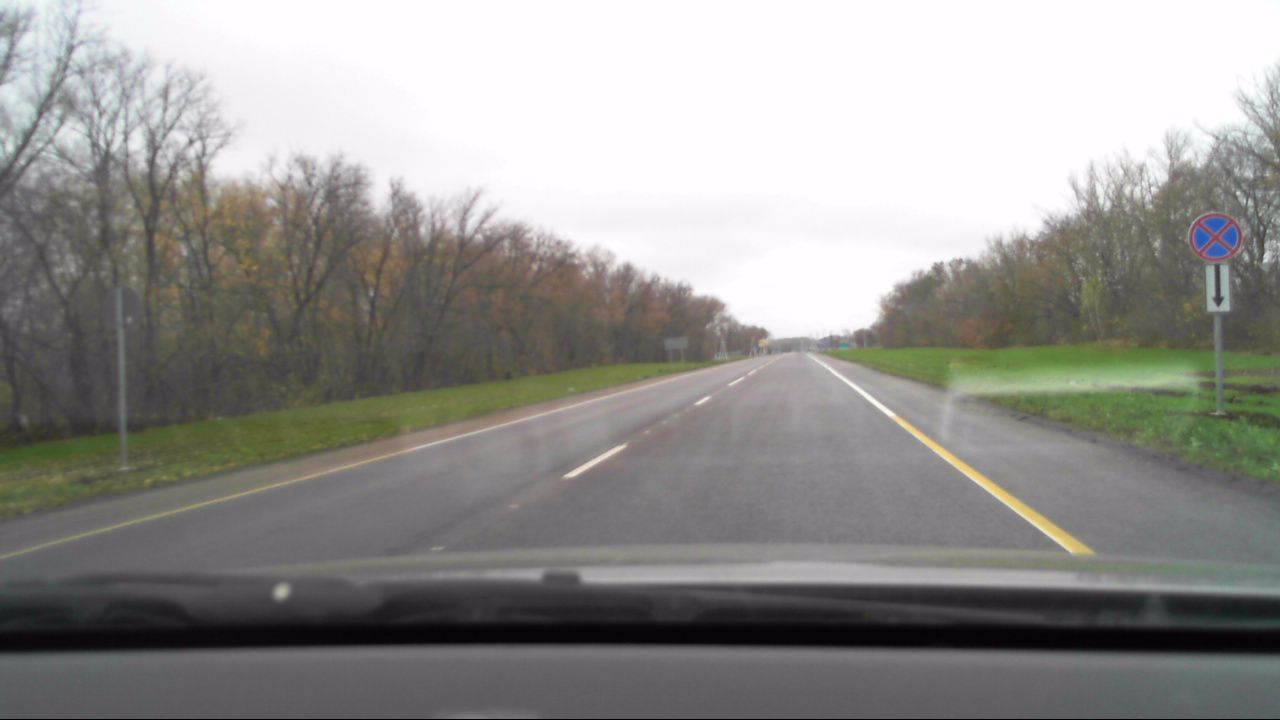No Parking: (1186, 210, 1245, 261)
